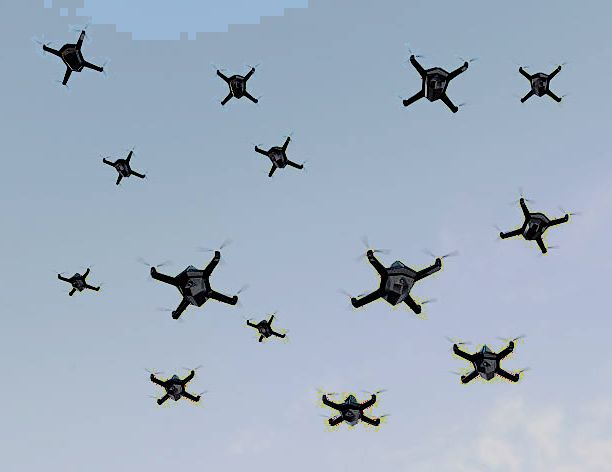Drone: (128, 234, 253, 323), (338, 231, 461, 317), (490, 190, 579, 258), (394, 46, 479, 117), (438, 331, 533, 391), (33, 23, 109, 88), (306, 382, 393, 432), (509, 54, 572, 110), (143, 361, 213, 410), (250, 127, 310, 178), (210, 61, 263, 109), (97, 142, 150, 186), (49, 260, 103, 300), (241, 312, 293, 345)
